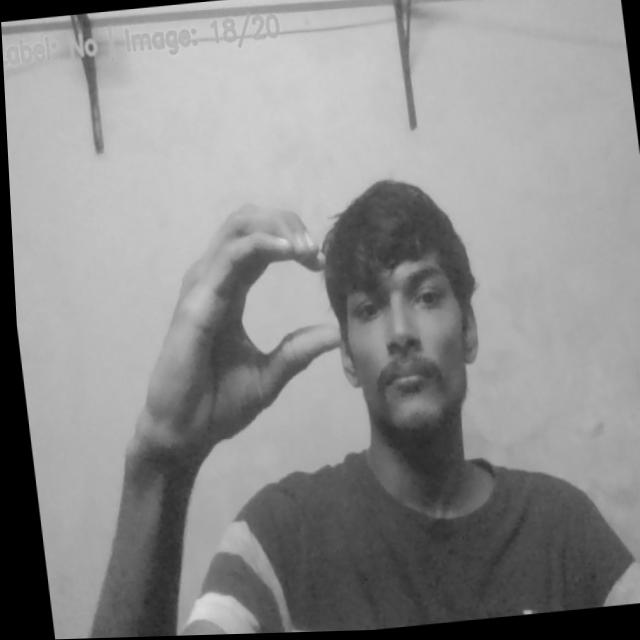No: (118, 196, 353, 462)
